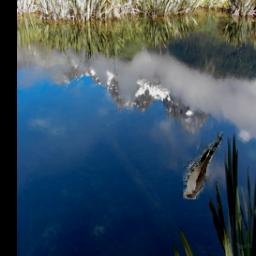Cuckoo: (184, 133, 224, 200)
